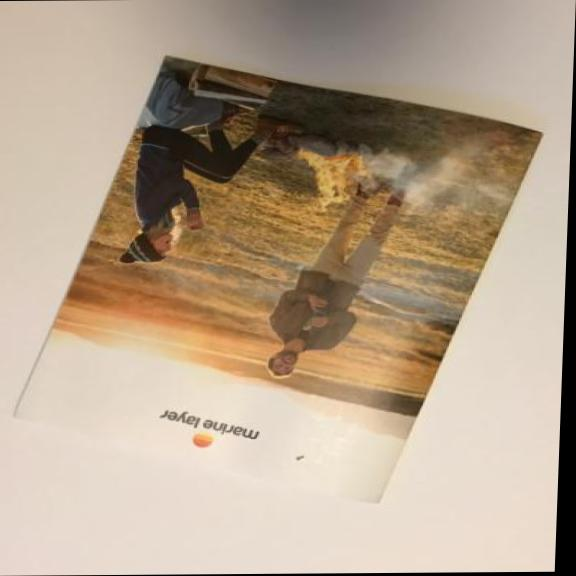Kertas: (0, 45, 557, 517)
